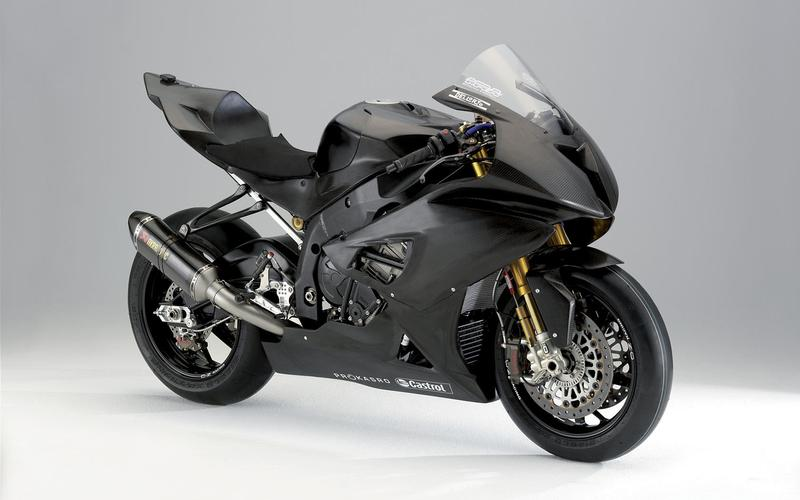摩托车: (128, 31, 685, 472)
